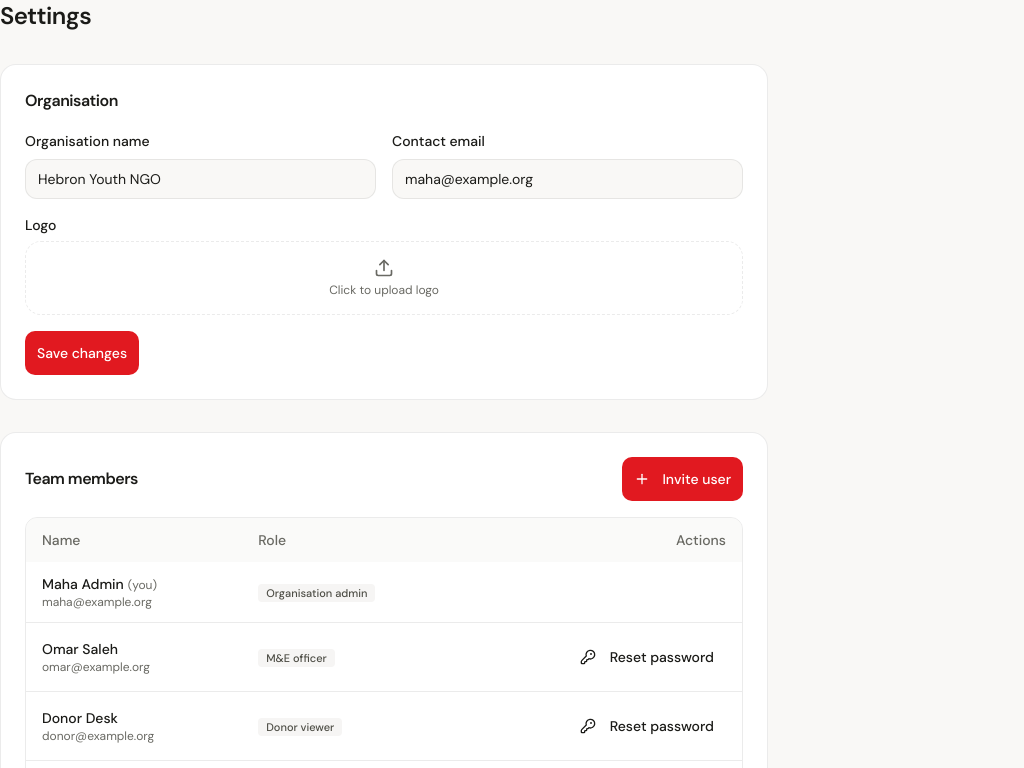
Scenario: Settings: team members (org admins) › says when copying fails, so the admin copies it by hand
Click the button "Reset password" in the row of "Omar Saleh": (647, 657) [568,635,726,679]
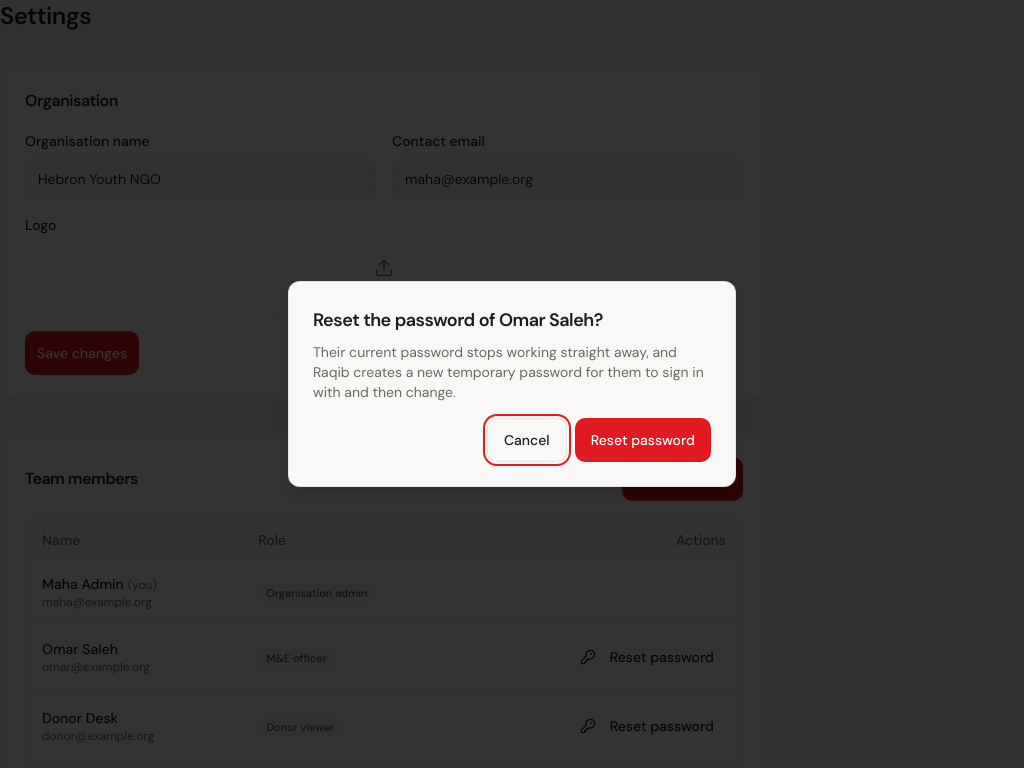
Click the button "Reset password": (643, 440) [575,418,711,462]
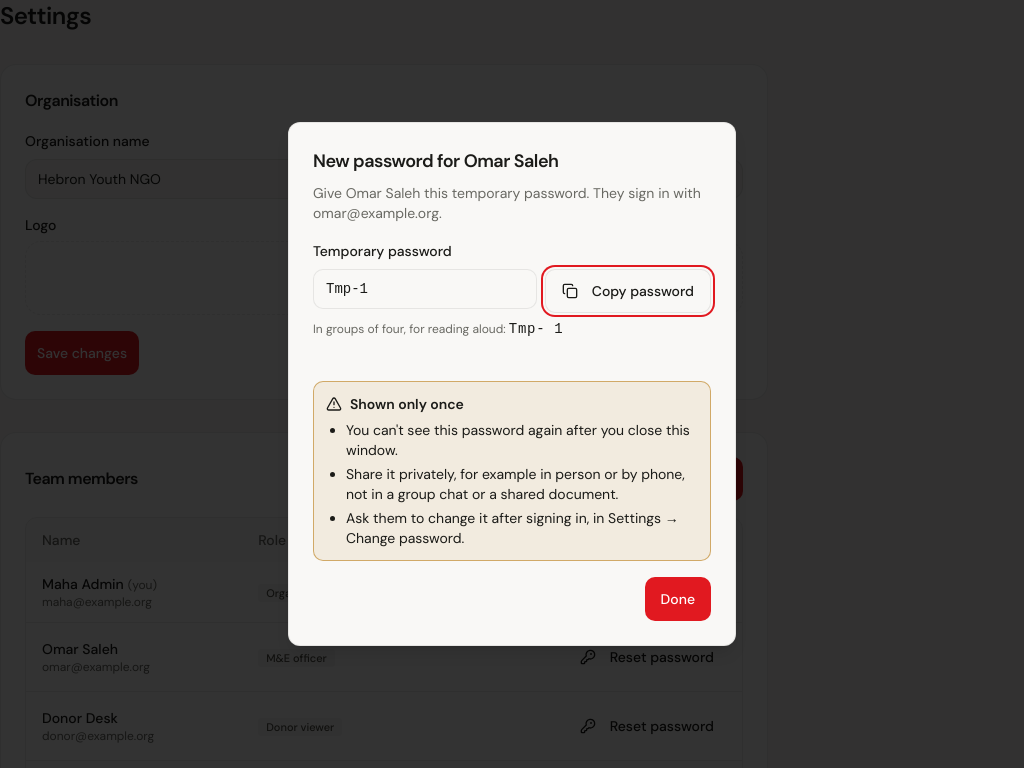
Click the button "Copy password": (628, 291) [545,269,711,313]
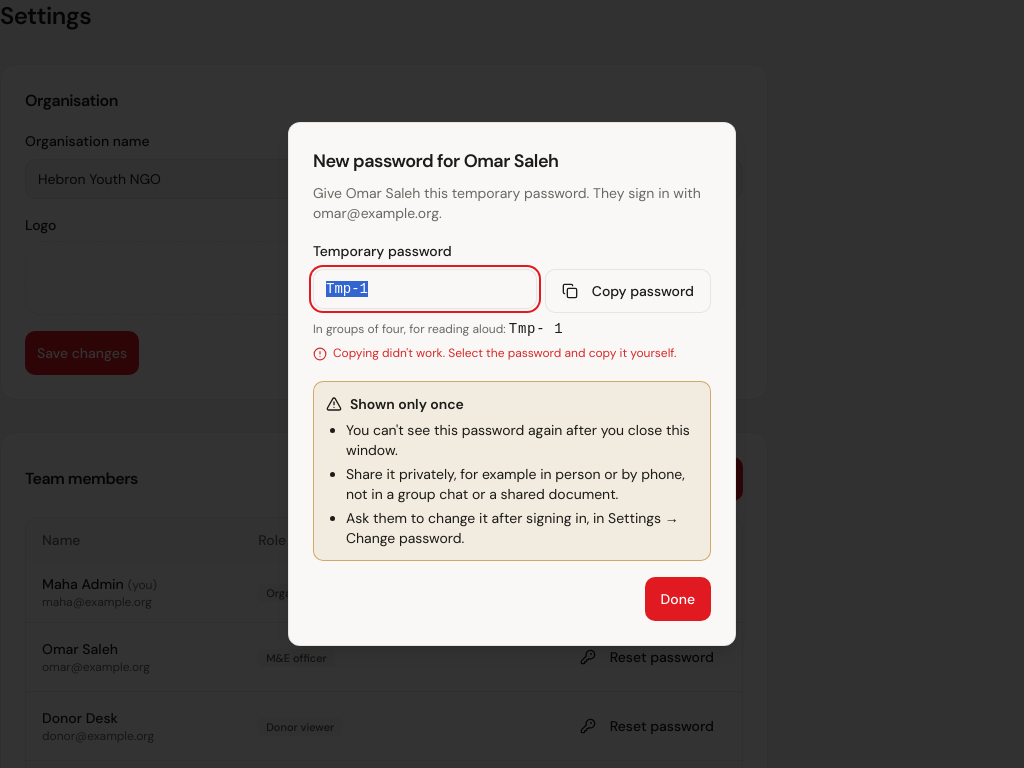
Expected: the text "Copying didn't work. Select the password and copy it yourself." is shown, [313,345,711,361]
